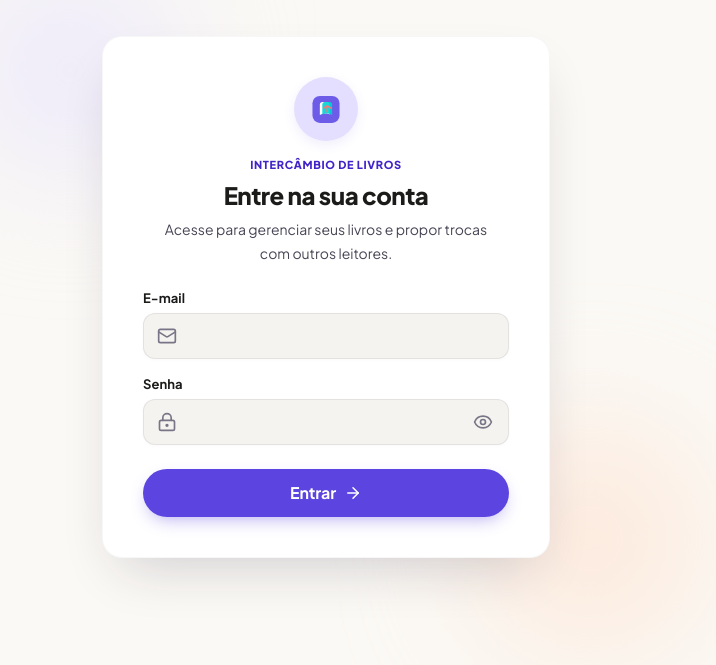
Test: LoginPage › revela a senha sem tirar o foco do campo
Type "segredo" into the password field labelled "Senha" at (326, 422), box [143,399,509,445]
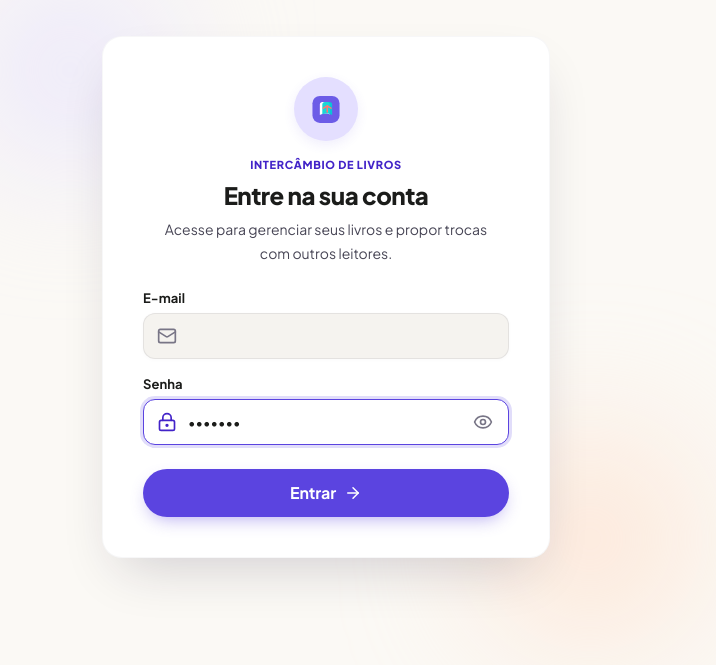
Click the button named "Mostrar senha" at (483, 422), box [465,404,501,440]
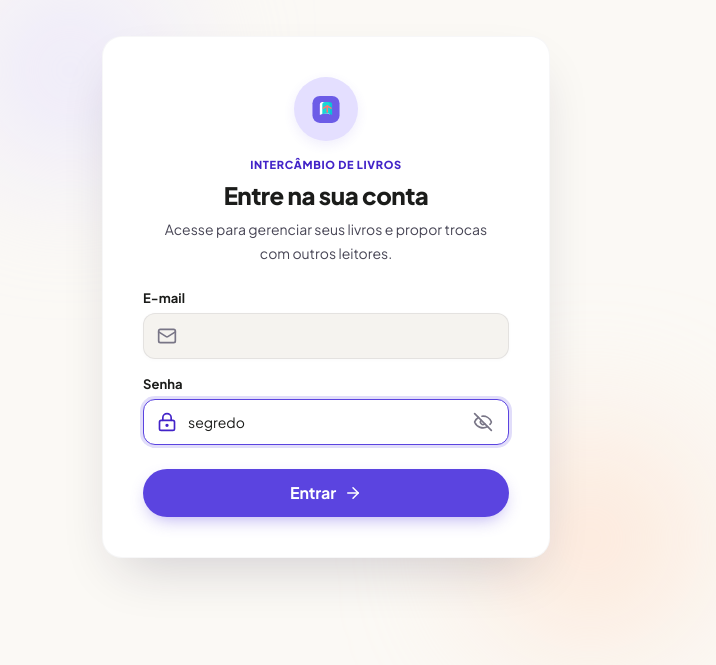
Expected: the field labelled "Senha" shows its text, [143,399,509,445]
